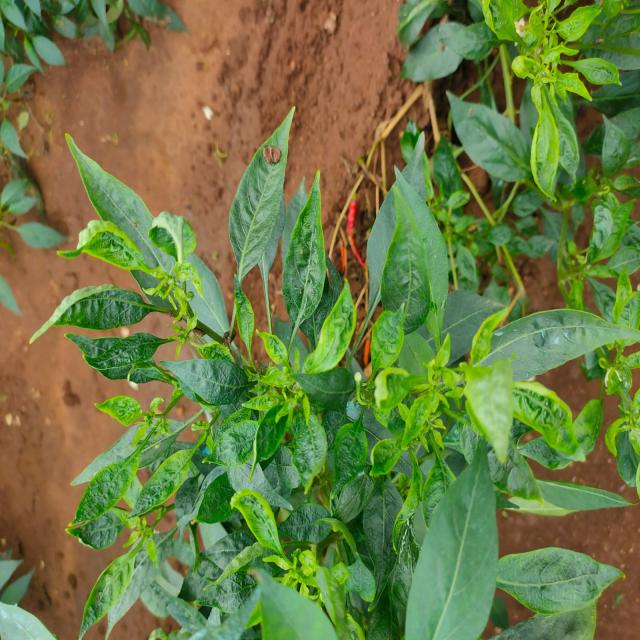Moko: (364, 286, 600, 524), (16, 349, 228, 556), (45, 172, 223, 349), (220, 469, 381, 640), (476, 0, 626, 182), (235, 275, 361, 466)
